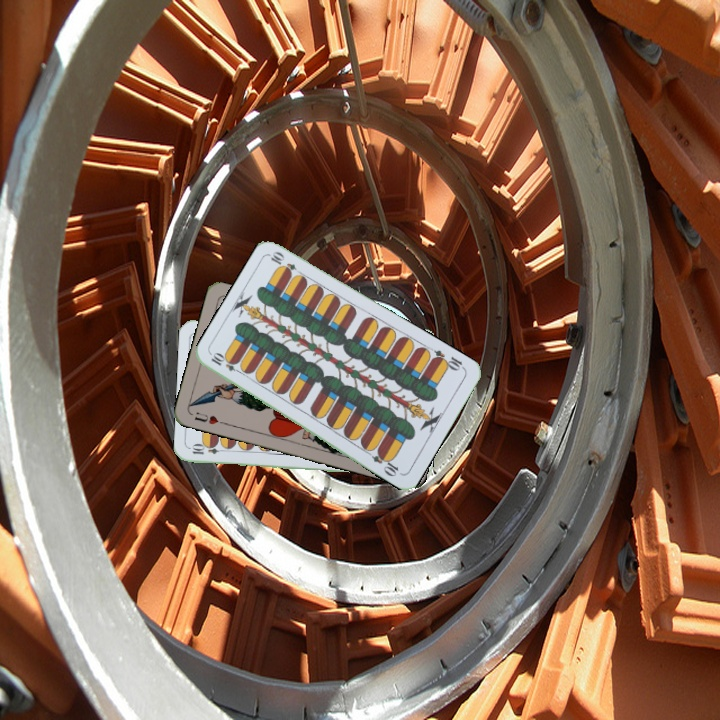E10: (428, 345, 467, 374), (207, 350, 246, 377), (188, 443, 229, 457)
HU: (191, 408, 228, 427)
